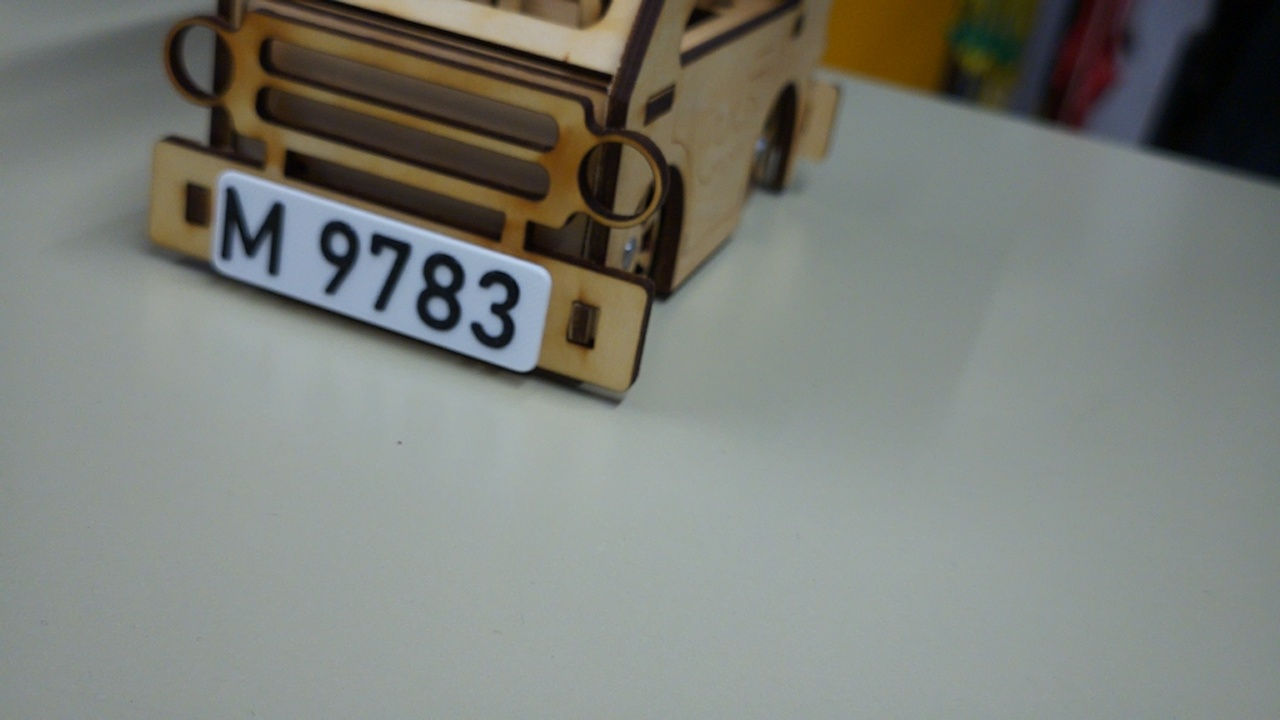license_plate: (210, 162, 553, 373)
